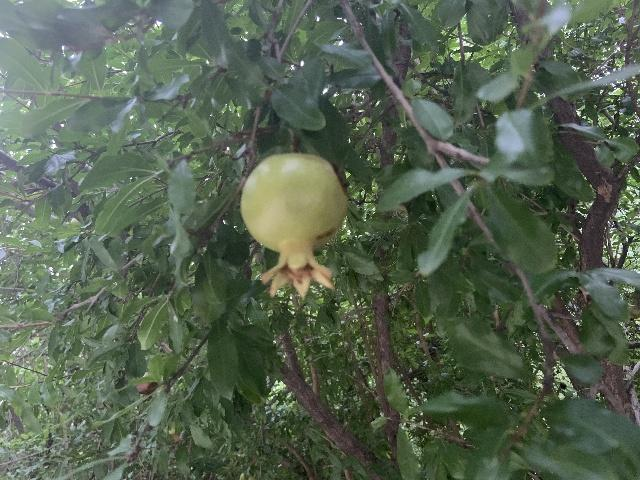mid-growth: (240, 152, 347, 300)
